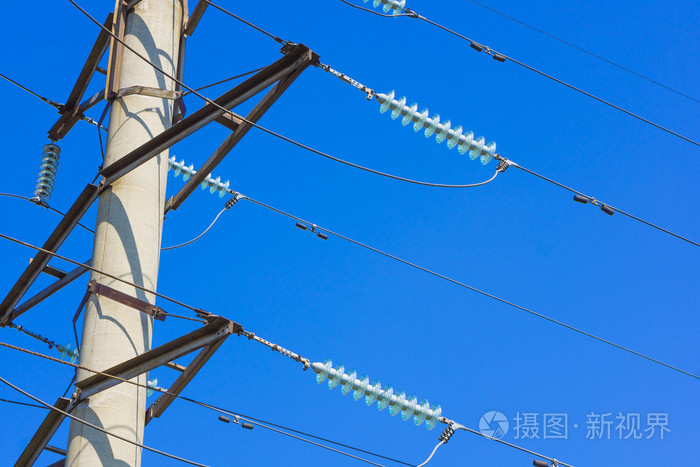insulator: (377, 89, 498, 165), (313, 359, 445, 427), (168, 153, 232, 196), (33, 142, 62, 200)
